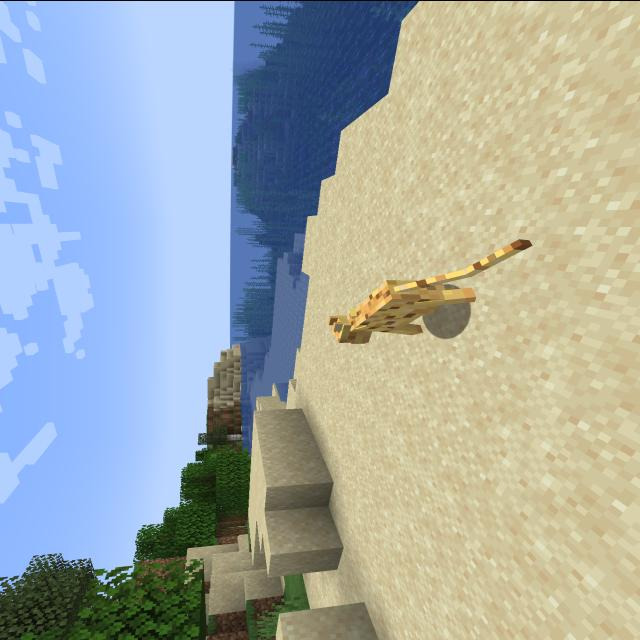Ocelot: (322, 236, 537, 348)
